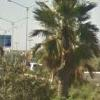Palm tree: (34, 1, 95, 95)
